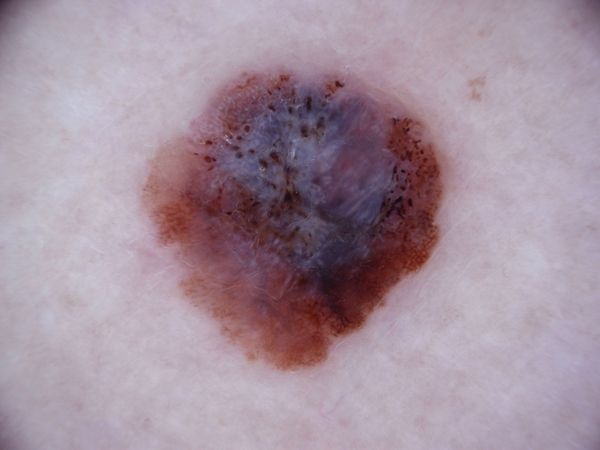Detected Lesion: (136, 62, 453, 376)
